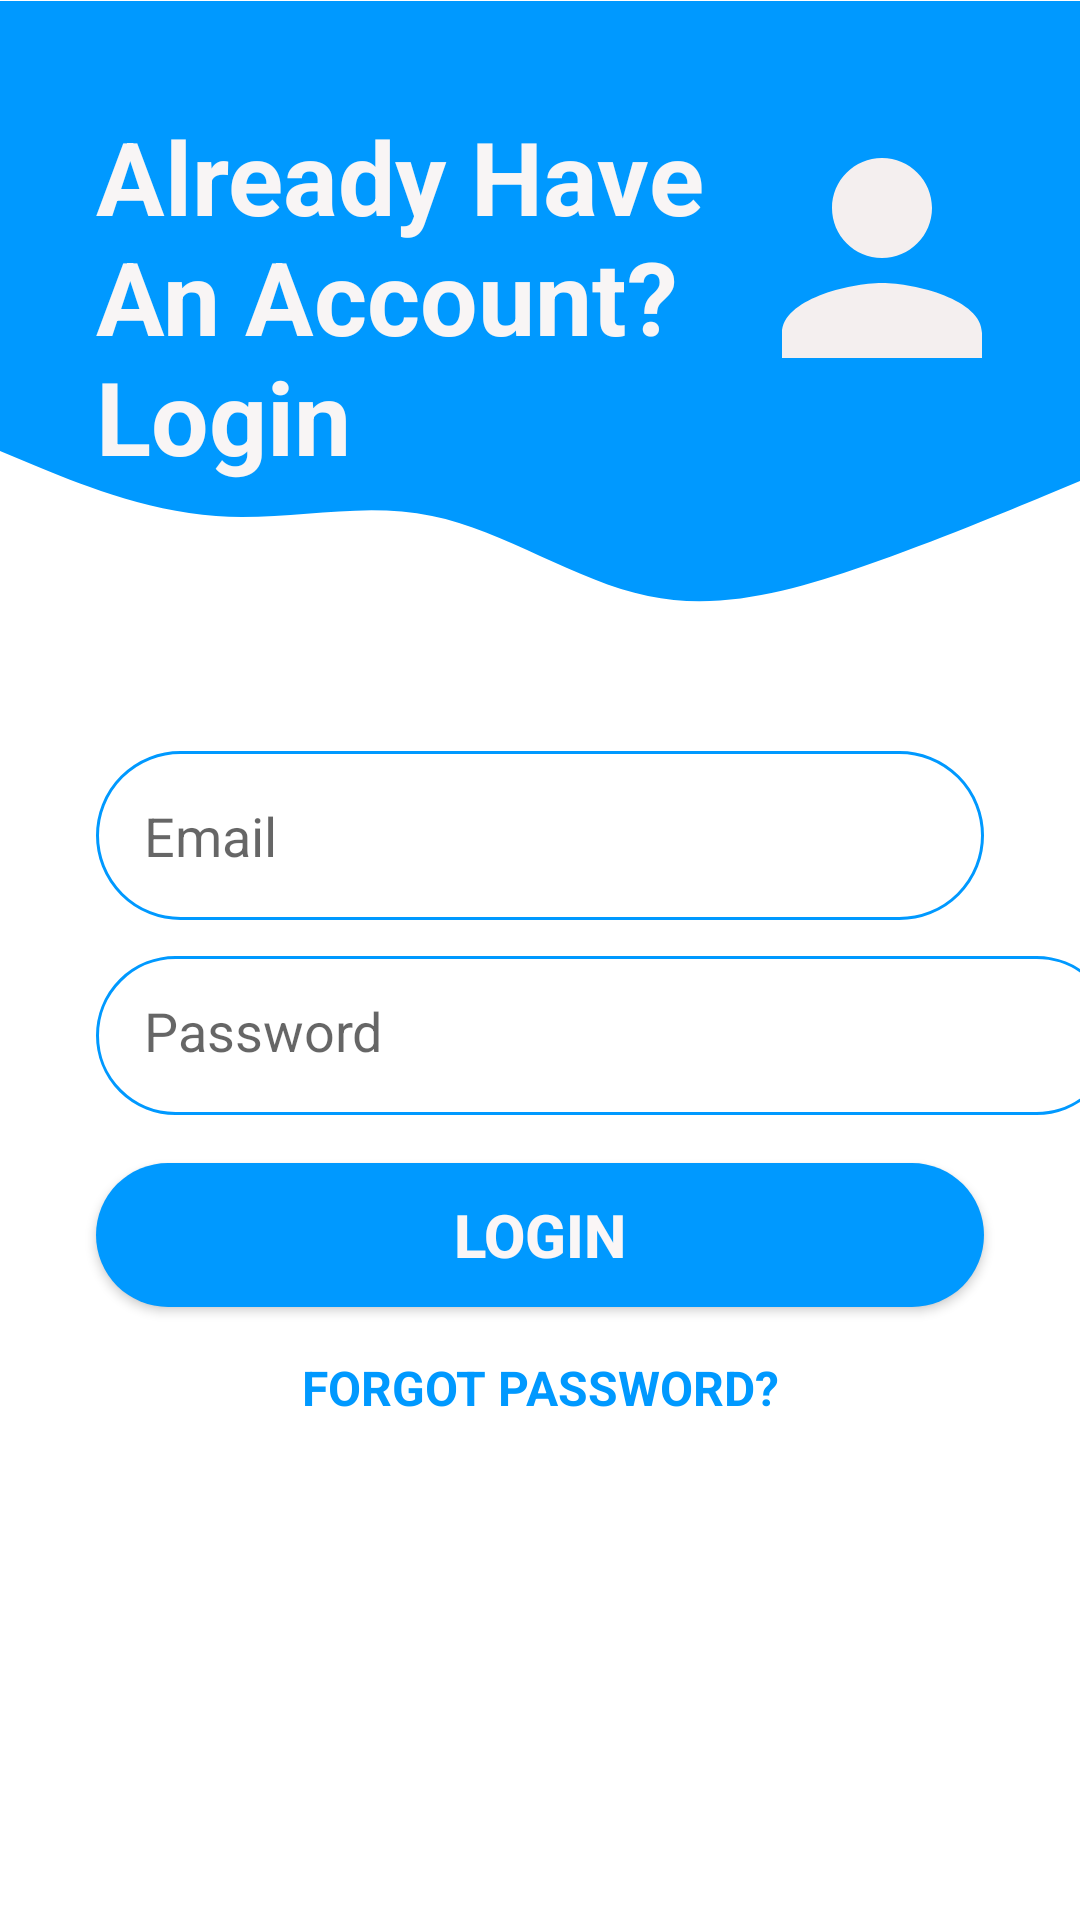

Point at icon controls on the screen. Image size 1080w x 1920h, points as (x=x, y=y).
person: (x=882, y=258)
